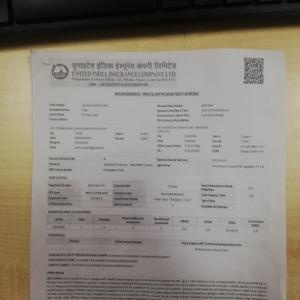image: (47, 56, 180, 89)
table: (47, 178, 272, 215), (47, 215, 268, 247)
text: (48, 128, 266, 157), (48, 98, 229, 125), (44, 249, 171, 273), (108, 90, 199, 99)
